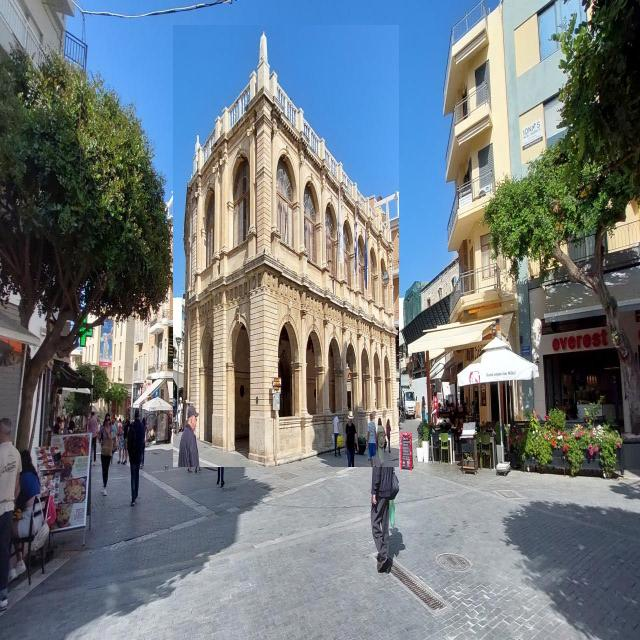Loggia: (174, 26, 400, 468)
